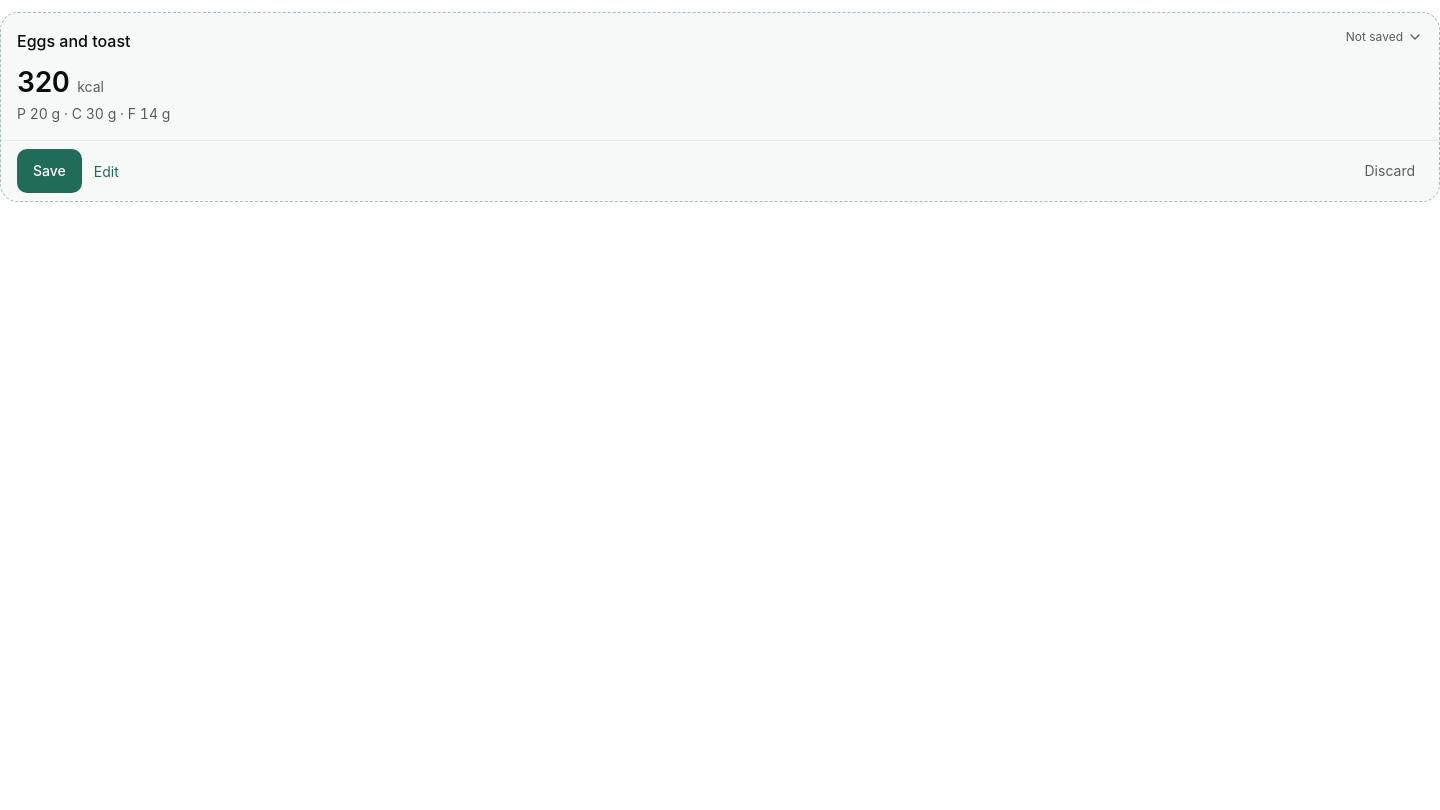
Test case: saves edited proposal details through the full editor
Click the button "Edit": [106, 171] box top-left (90, 149), bottom-right (123, 193)
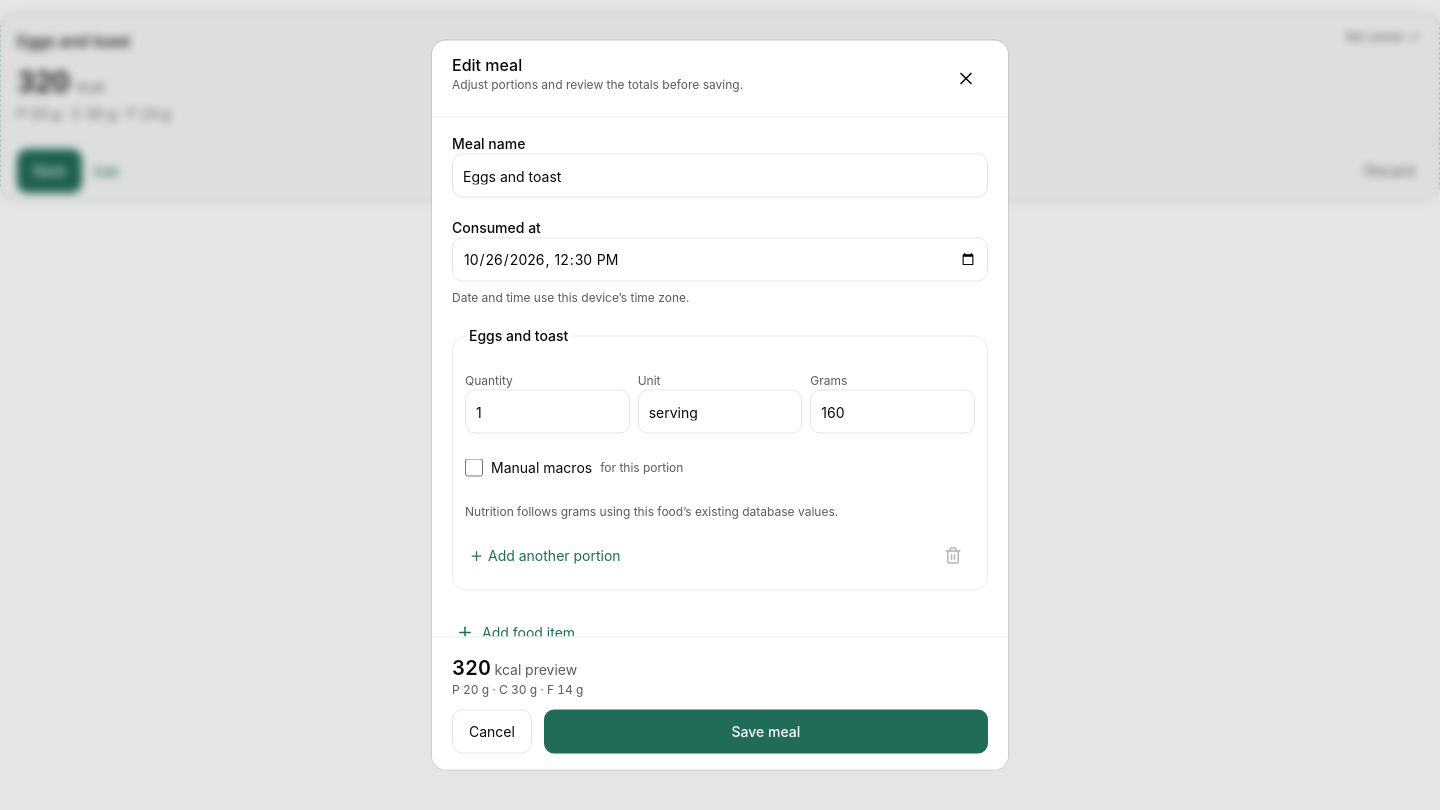
Replace the text in the field labelled "Meal name" with "Late breakfast": [720, 176] box top-left (452, 154), bottom-right (988, 198)
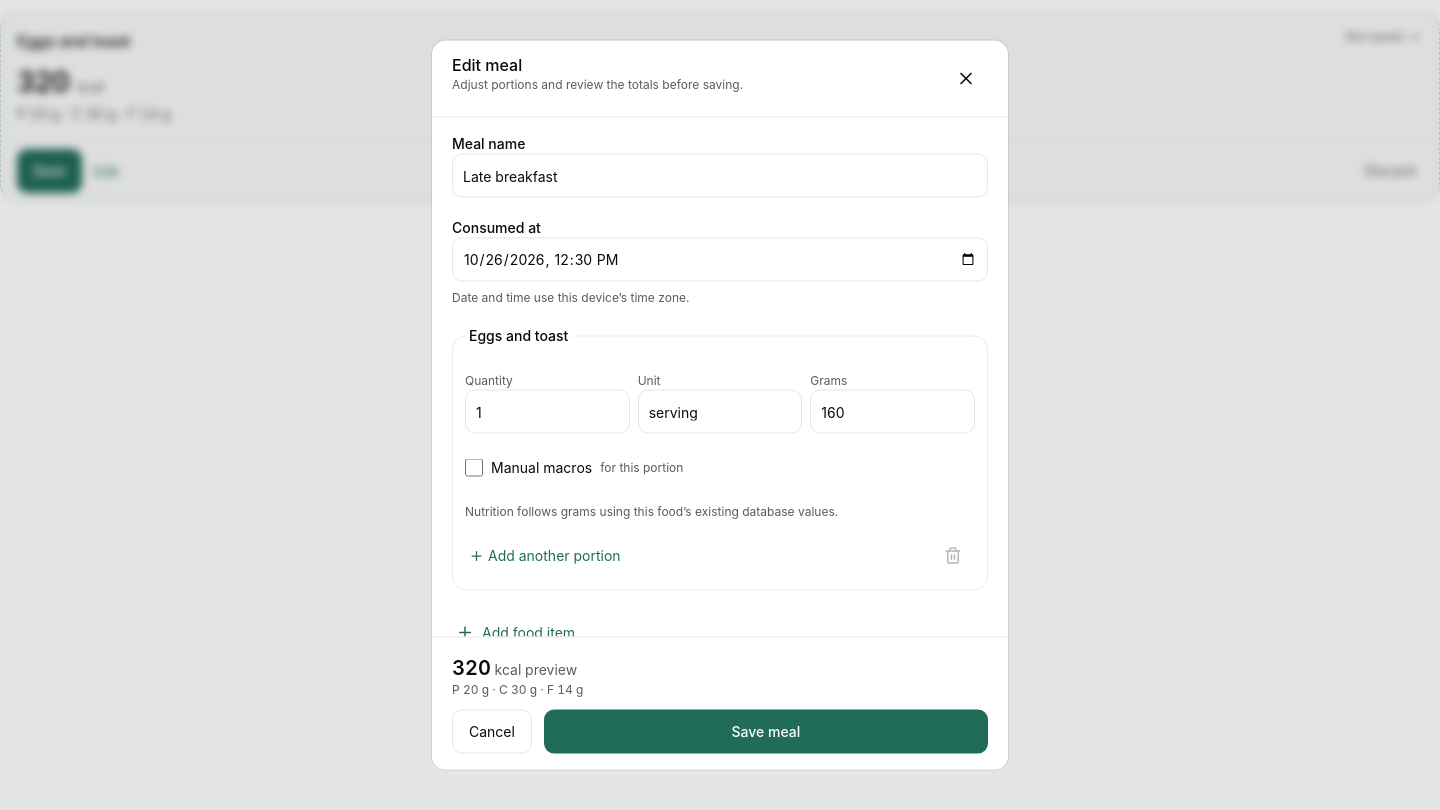
Replace the text in the field labelled "Consumed at" with "2026-10-25T09:00": [720, 260] box top-left (452, 238), bottom-right (988, 282)
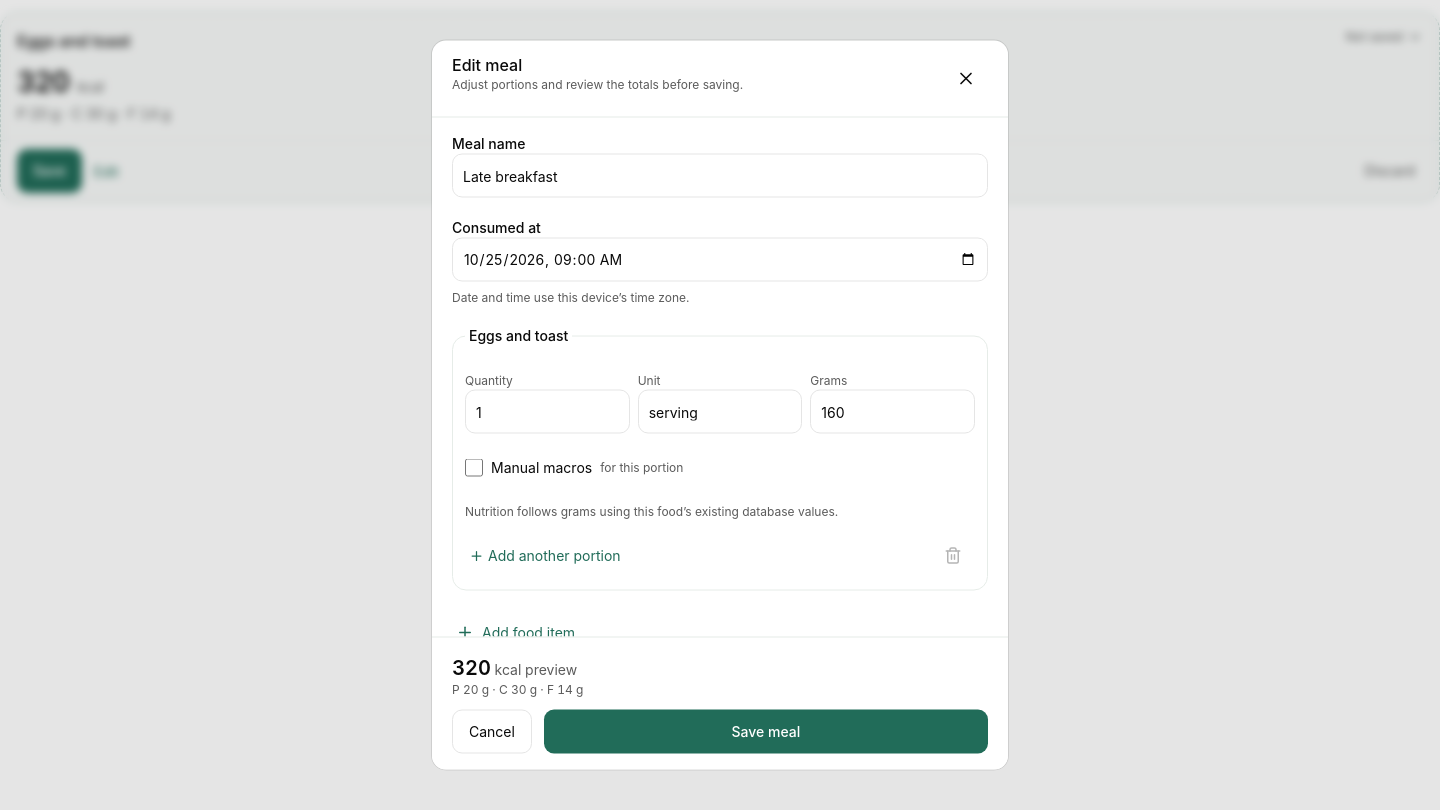
Click the button "Save meal": [766, 732] box top-left (544, 710), bottom-right (988, 754)
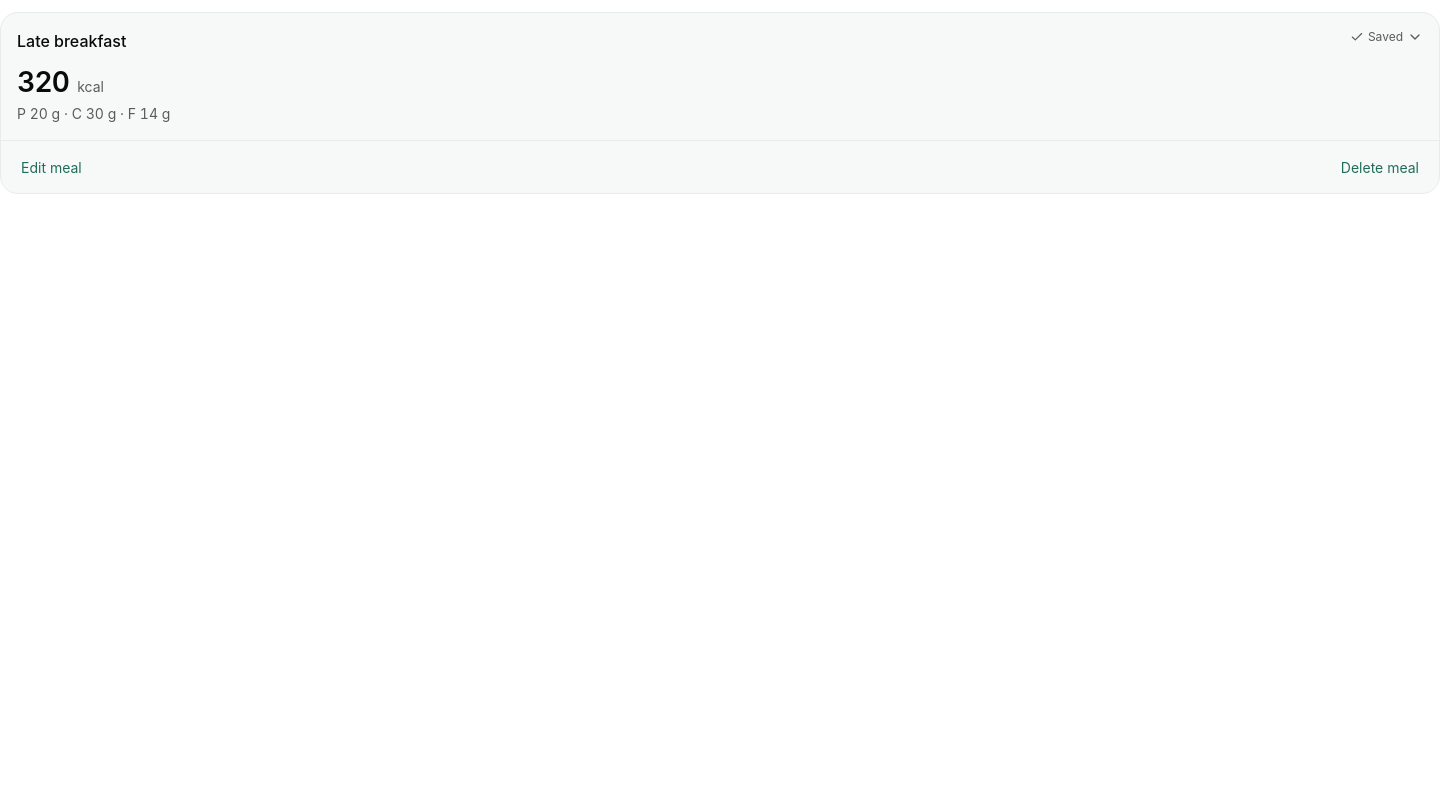
Expected: the dialog is gone
Expected: the element "Late breakfast" is shown, top-left (0, 12), bottom-right (1439, 194)
Expected: the heading "Late breakfast" is shown, top-left (17, 29), bottom-right (126, 53)
